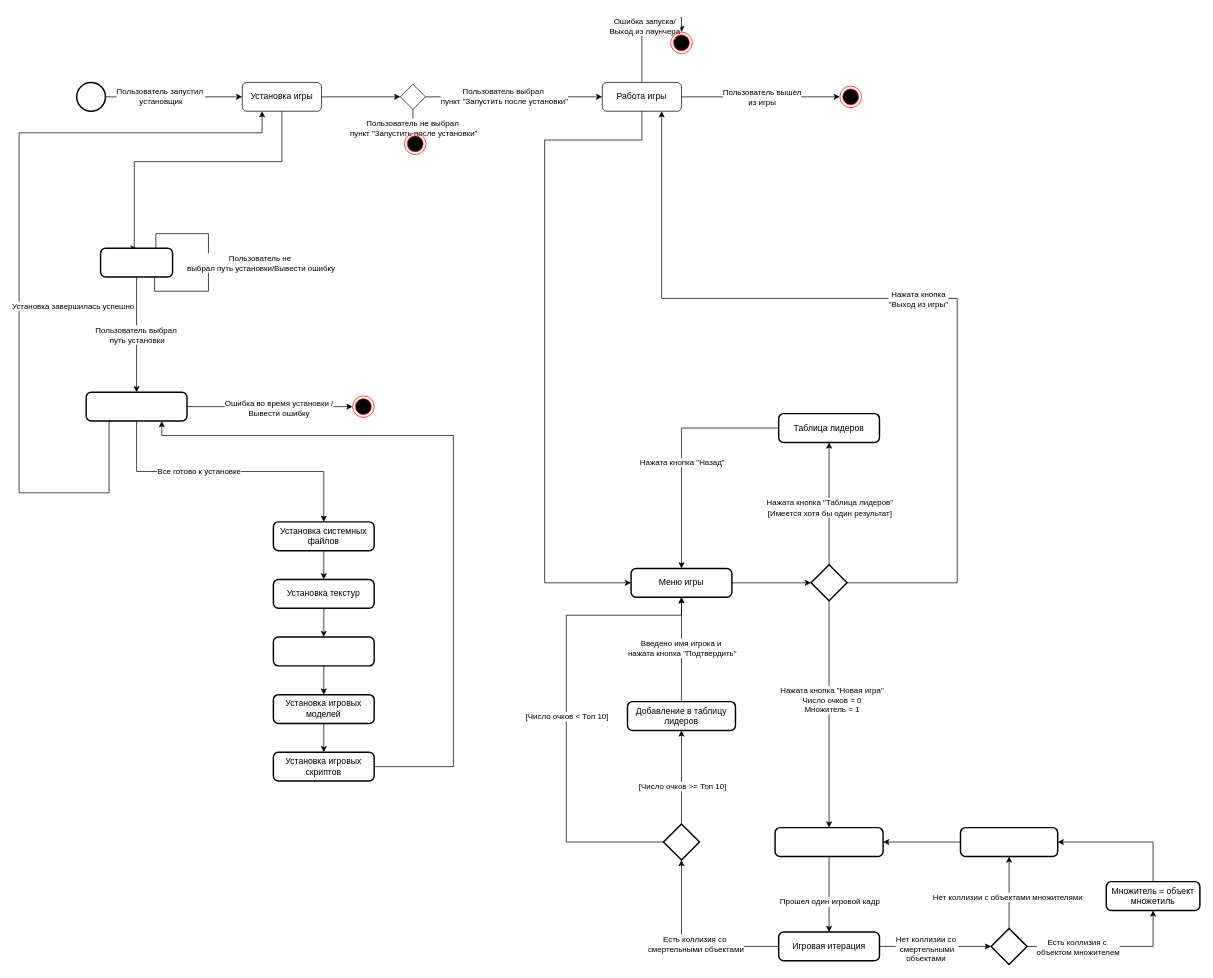
Image size: 1213x978. Some labels were removed from this diagram. Each missing label, with the centre of its shape:
Игра: [828,842]
Окно отображения прогресса установки: [136,406]
Окно установщика: [136,262]
Установка игровых звуков: [323,651]
Число очков += Множитель: [1008,842]
